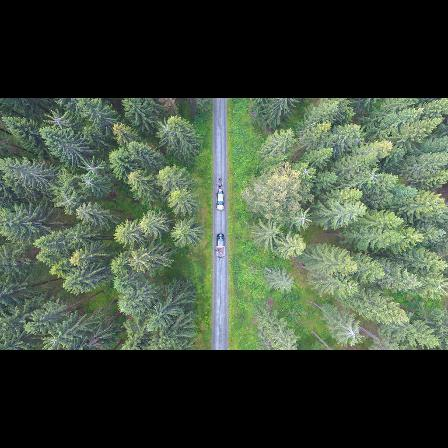Sick: (52, 186, 84, 213), (78, 153, 108, 179), (46, 105, 71, 133), (292, 207, 315, 229), (343, 322, 363, 347), (295, 162, 316, 183), (364, 164, 383, 186), (77, 174, 99, 192)
